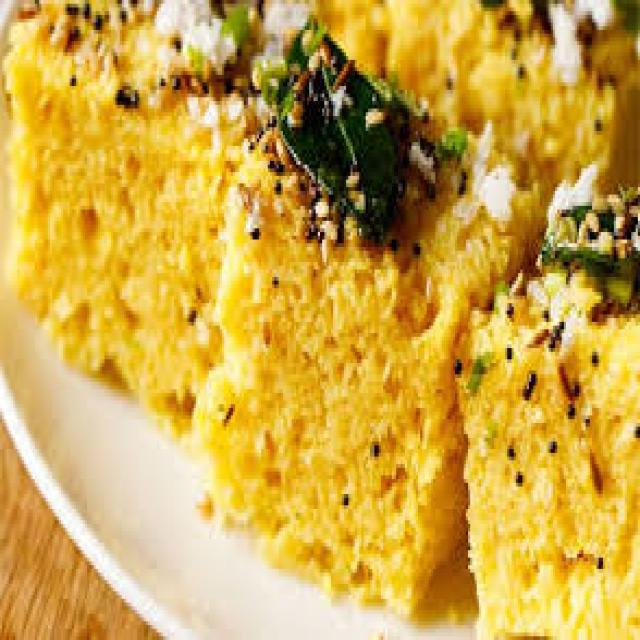DHOKLA: (194, 49, 533, 610), (9, 0, 242, 430), (459, 273, 638, 636)
